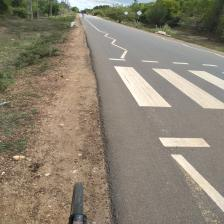crossing: (79, 13, 224, 215), (170, 153, 224, 212), (152, 67, 224, 109), (113, 65, 172, 108)
